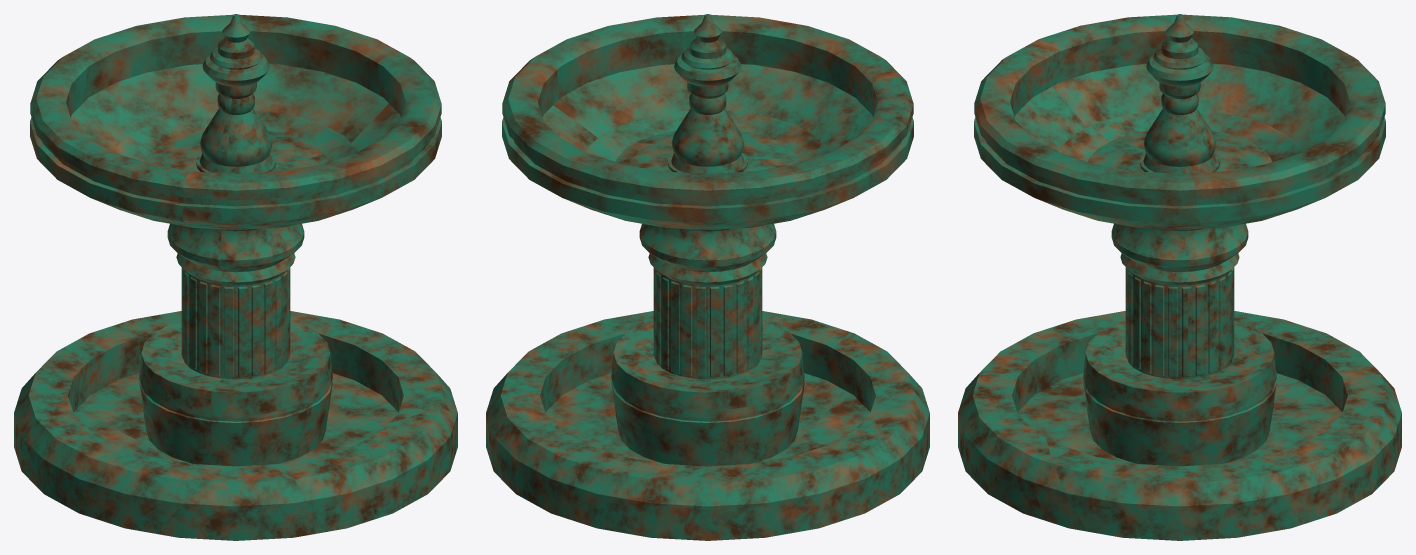
File: Fontaine.fbx
The picture shows the model from 3 angles, left to right: view 1: azimuth 30°, elevation 25°; view 2: azimuth 150°, elevation 25°; view 3: azimuth 270°, elevation 25°; orthographic projection.
Parts seen in each view (by area): view 1: Fontaine.001; view 2: Fontaine.001; view 3: Fontaine.001.
Boxes of the visible parts, x1,y1,x2,y2 form: Fontaine.001: (14,14,457,540); Fontaine.001: (486,14,929,540); Fontaine.001: (958,14,1401,540).
Size of the model in its own units: 4.59 by 4.59 by 4.93.
1 material, 1 textured.
